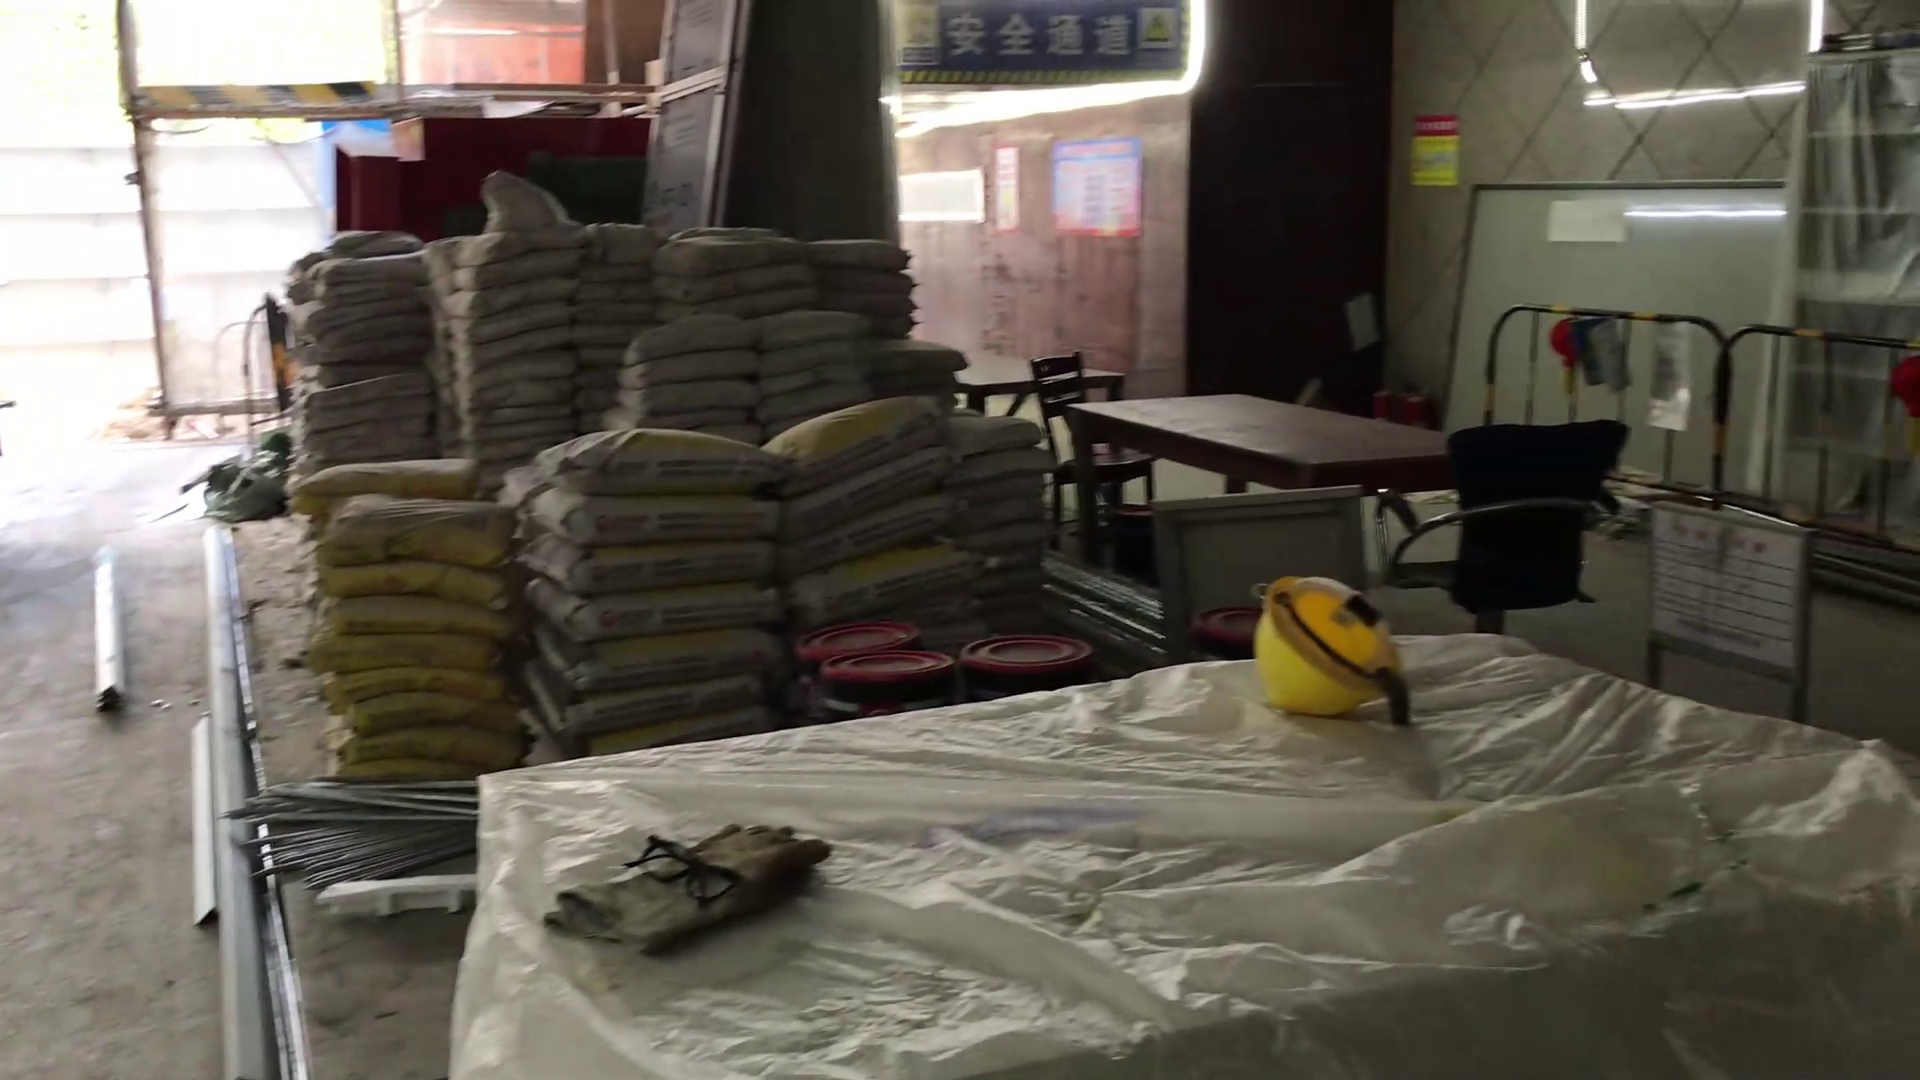helmet: (1245, 567, 1410, 717)
slogan: (899, 8, 1188, 91), (1403, 117, 1462, 187)
